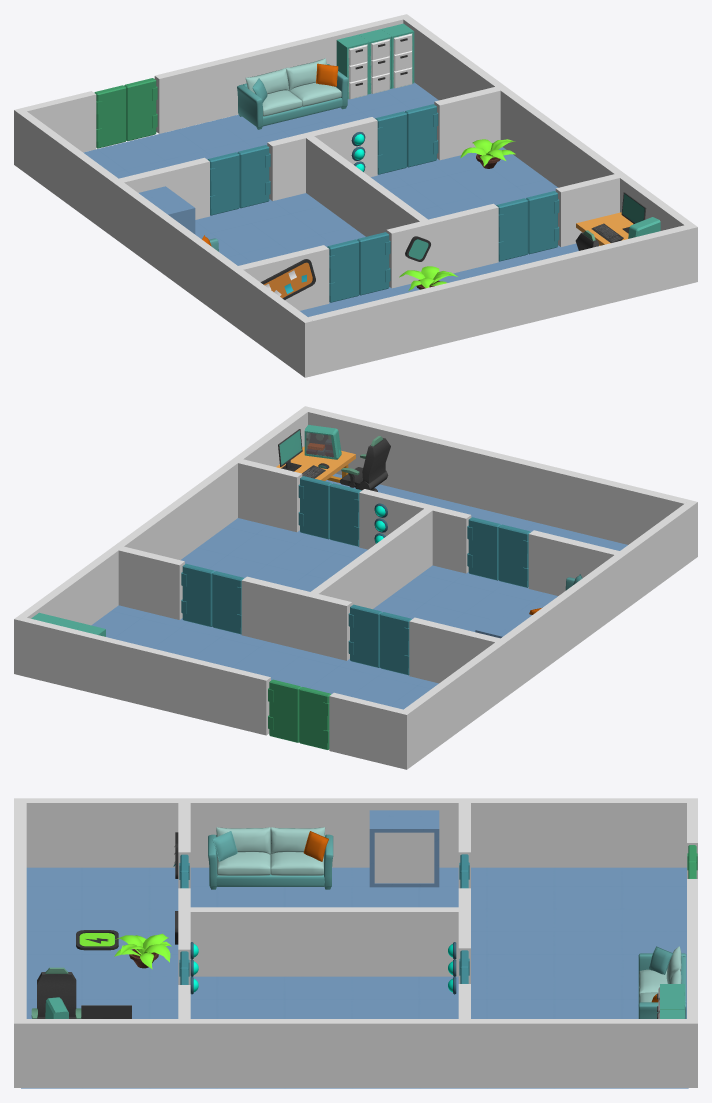
File: maps_11.fbx
3 renders of one model, top to bottom at view 1: azimuth 30°, elevation 25°; view 2: azimuth 150°, elevation 25°; view 3: azimuth 270°, elevation 25°, orthographic. The views are drawn at different scales.
Visible parts, largest first — view 1: polySurface144, polySurface195, polySurface196, polySurface191, polySurface6 (×5), polySurface2 (×5), polySurface193, polySurface199, polySurface261, sofa_geo, polySurface198, polySurface192 (+13 smaller); view 2: polySurface144, polySurface196, polySurface195, polySurface193, polySurface191, polySurface6 (×5), polySurface2 (×5), polySurface198, polySurface261, polySurface199, polySurface197, polySurface192 (+7 smaller); view 3: polySurface144, polySurface191, polySurface196, polySurface261, sofa_geo1, polySurface195, tu_02_01_geo, sofa_geo, polySurface257, tu_02_03_geo, tu_02_02_geo, polySurface193 (+9 smaller).
Boxes of the visible parts, left/top/right/bottom form: polySurface144: left=83, top=82, right=578, bottom=316; polySurface195: left=308, top=225, right=690, bottom=375; polySurface196: left=14, top=108, right=313, bottom=377; polySurface191: left=399, top=14, right=697, bottom=283; polySurface6 (×5): left=124, top=78, right=559, bottom=295; polySurface2 (×5): left=94, top=85, right=528, bottom=302; polySurface193: left=154, top=16, right=403, bottom=133; polySurface199: left=386, top=203, right=498, bottom=288; polySurface261: left=306, top=136, right=427, bottom=236; sofa_geo: left=237, top=58, right=348, bottom=129; polySurface198: left=267, top=117, right=377, bottom=200; polySurface192: left=434, top=87, right=500, bottom=160; polySurface144: left=91, top=473, right=627, bottom=709; polySurface196: left=399, top=500, right=697, bottom=769; polySurface195: left=308, top=408, right=689, bottom=544; polySurface193: left=22, top=618, right=270, bottom=735; polySurface191: left=14, top=406, right=312, bottom=675; polySurface6 (×5): left=181, top=476, right=500, bottom=742; polySurface2 (×5): left=212, top=483, right=530, bottom=749; polySurface198: left=241, top=576, right=352, bottom=660; polySurface261: left=311, top=508, right=432, bottom=609; polySurface199: left=359, top=489, right=471, bottom=573; polySurface197: left=329, top=692, right=402, bottom=767; polySurface192: left=118, top=546, right=184, bottom=619; polySurface144: left=21, top=867, right=688, bottom=1088; polySurface191: left=14, top=1019, right=697, bottom=1087; polySurface196: left=14, top=798, right=697, bottom=867; polySurface261: left=190, top=907, right=458, bottom=976; sofa_geo1: left=208, top=827, right=333, bottom=889; polySurface195: left=14, top=803, right=26, bottom=1019; tu_02_01_geo: left=369, top=810, right=439, bottom=887; sofa_geo: left=638, top=946, right=686, bottom=1018; polySurface257: left=31, top=967, right=81, bottom=1018; tu_02_03_geo: left=404, top=832, right=434, bottom=883; tu_02_02_geo: left=374, top=832, right=403, bottom=883; polySurface193: left=687, top=879, right=697, bottom=1018.
Bounding box in the file's own units: 66.51 × 10.09 × 85.35.
Materials: 13 (12 with a texture image).
